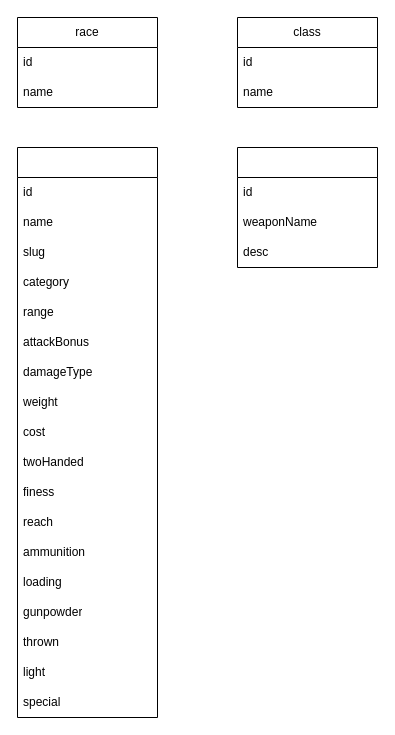
Image size: 395x735. Some labels were removed from this diagram. Here are the shapes that lost their labels. From the top down, the box of each, then its label:
(236, 146, 378, 268): specialWeapon
(16, 146, 158, 718): weapon
